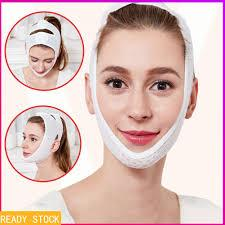Wore Mask Incorrectly: (84, 3, 201, 175)
